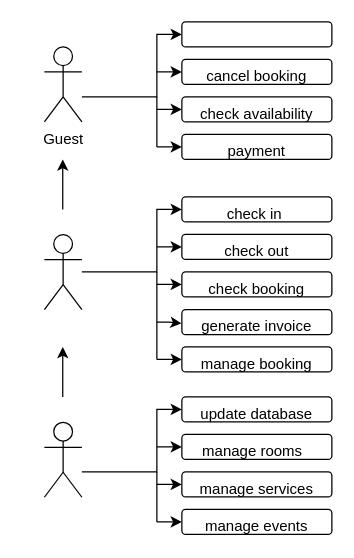
This 354x558 diagram has some shape labels left out. The centre of each missing label's shape, as x and y in pixels:
Admin: (x=62, y=459)
make booking: (x=256, y=34)
Receptionist: (x=62, y=271)
